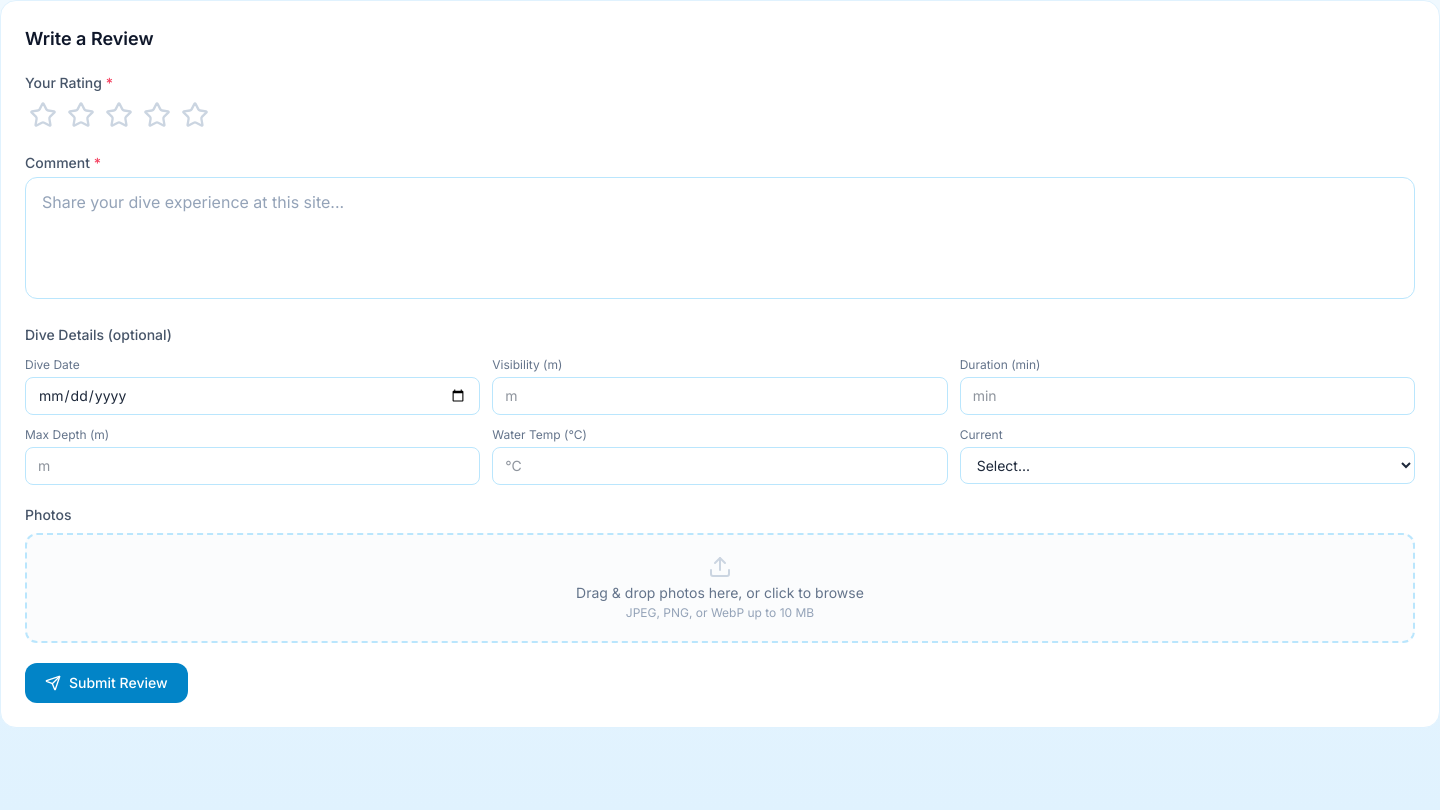
Scenario: ReviewForm › handles API errors on submission
Click the button named "5 out of 5 stars" at (195, 115), box [177,97,213,133]
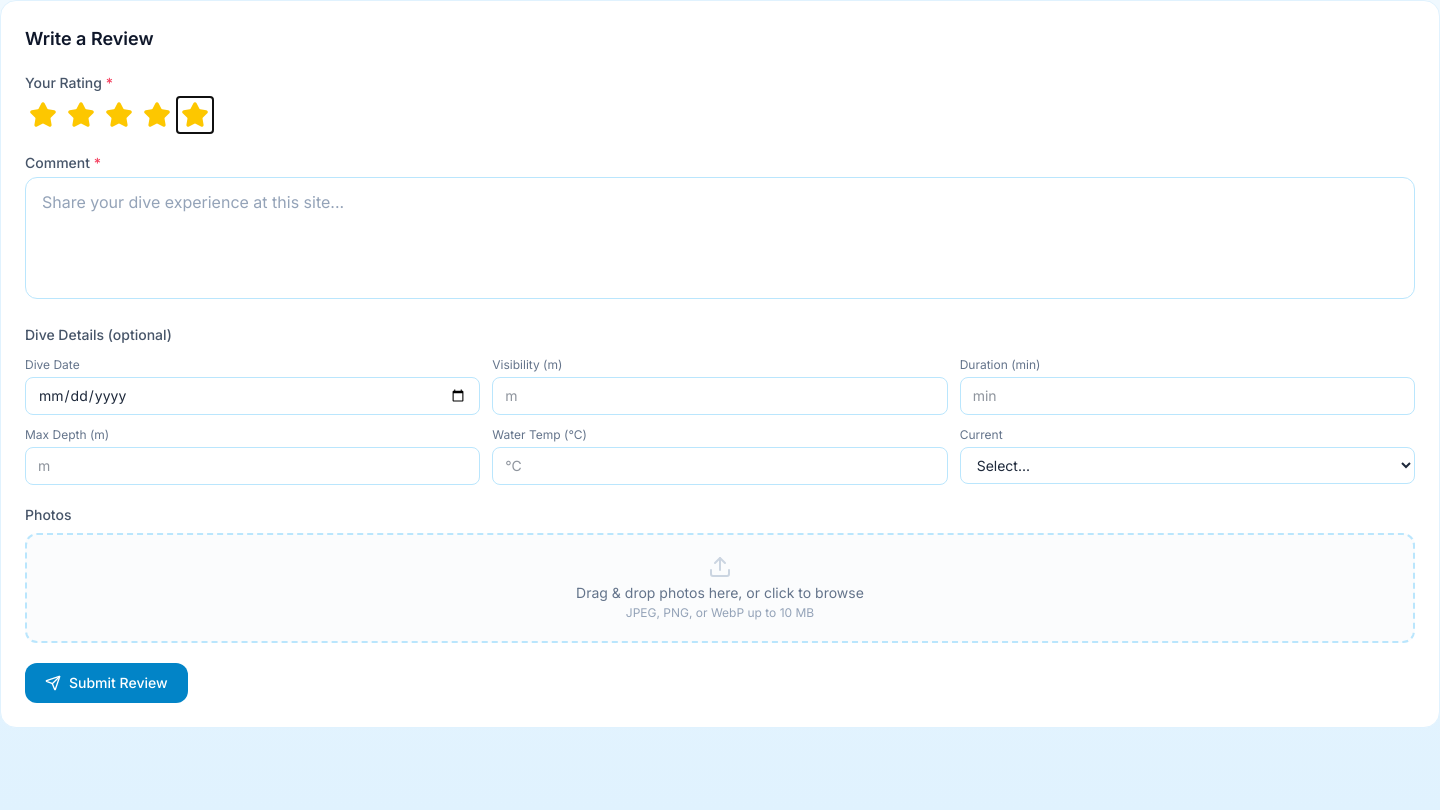
Type "Test comment" into the text box with placeholder "Share your dive experience at this site..." at (720, 238), box [25,177,1415,299]
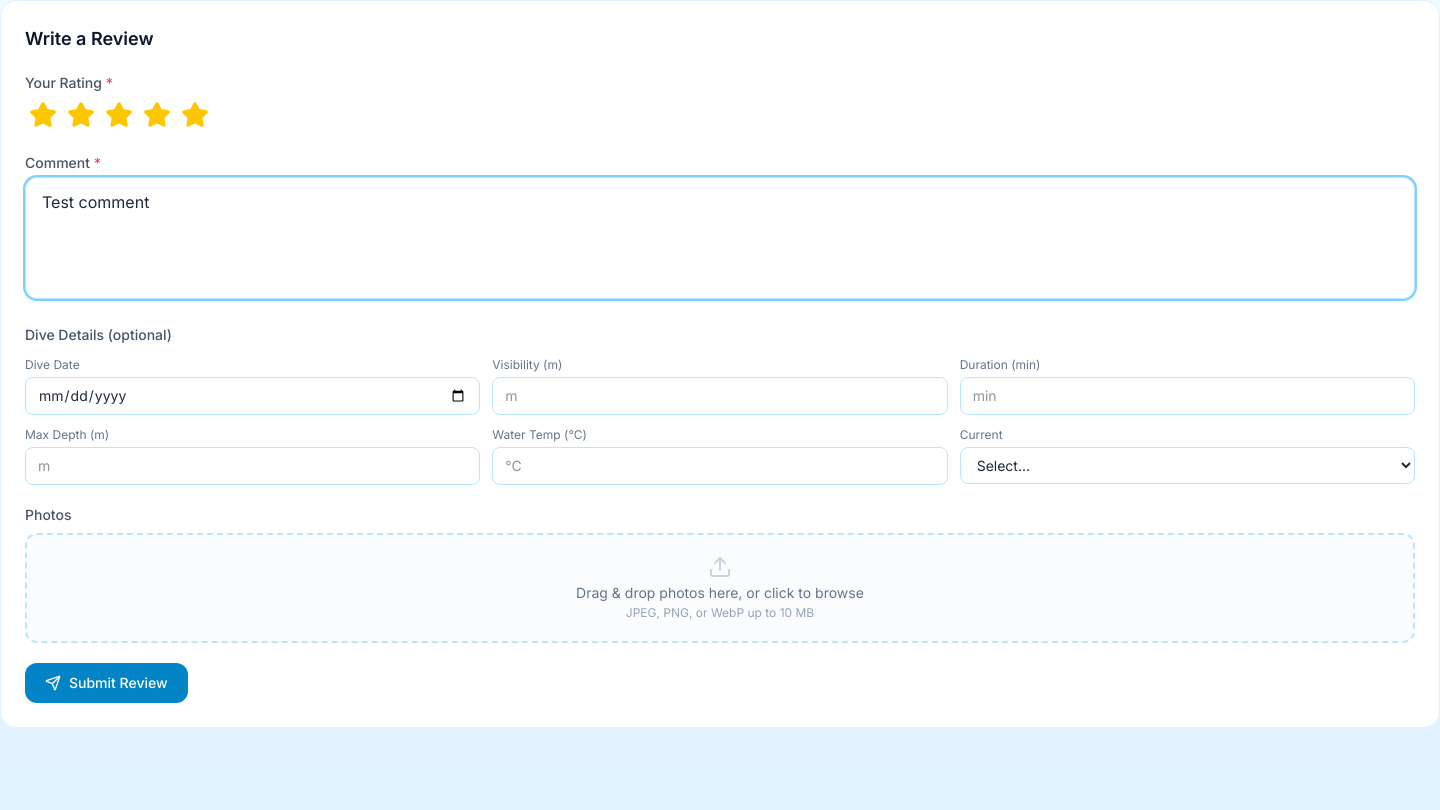
Click the button "Submit Review" at (106, 683), box [25,663,188,703]
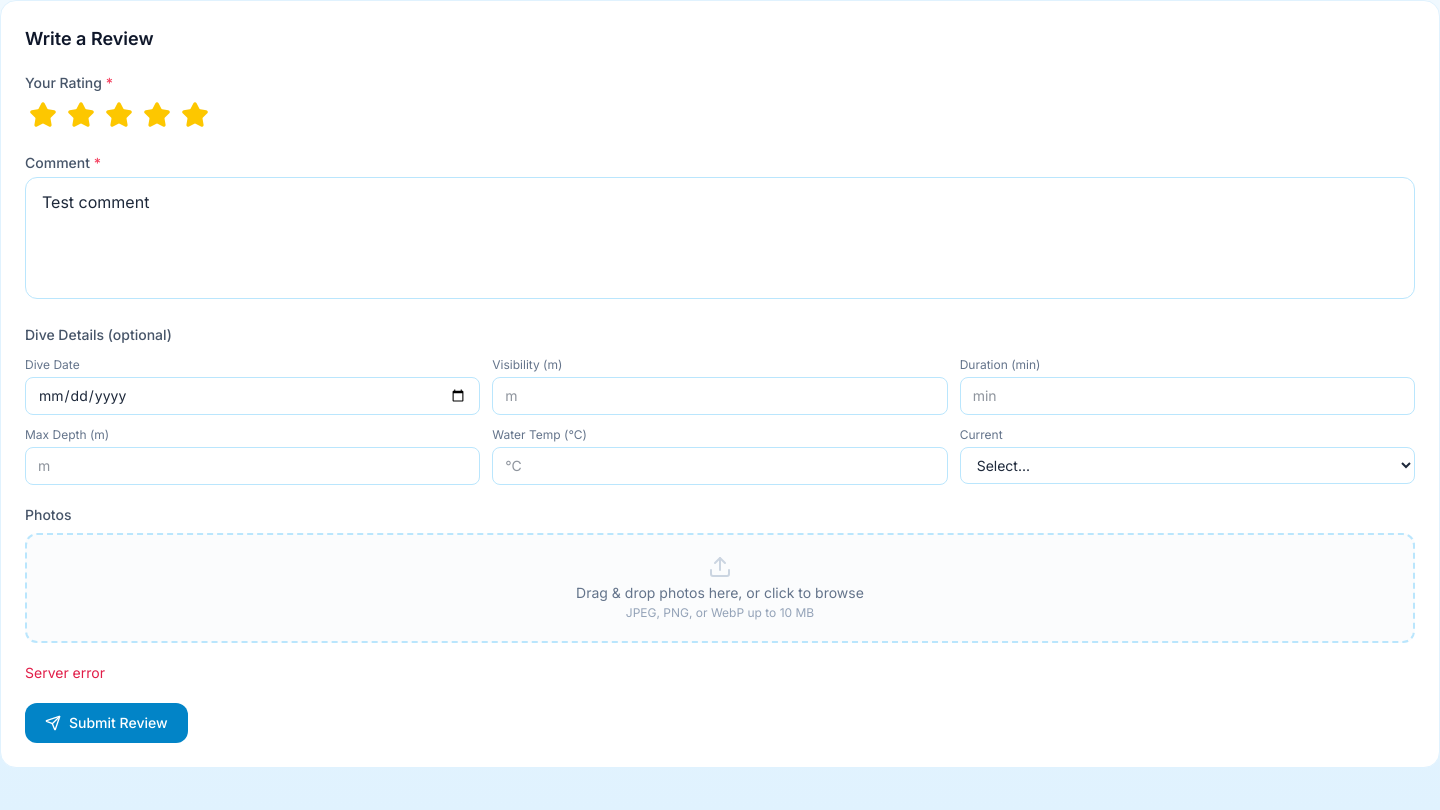
Expected: the text "Server error" is shown, [25,664,105,681]
